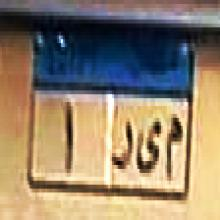1: (62, 96, 77, 180)
meem: (164, 107, 182, 185)
raa: (109, 112, 135, 179)
yaa: (135, 114, 162, 181)
